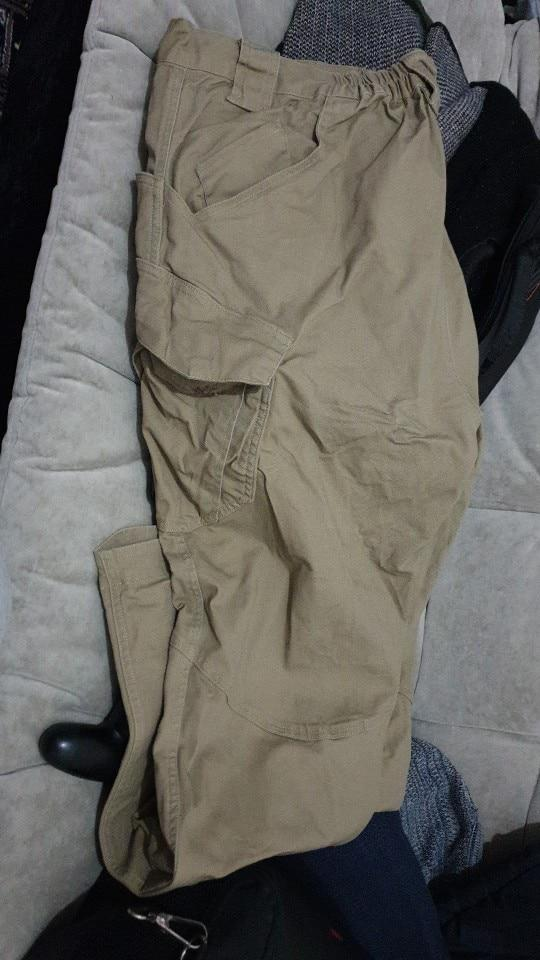pants: (98, 19, 458, 901)
